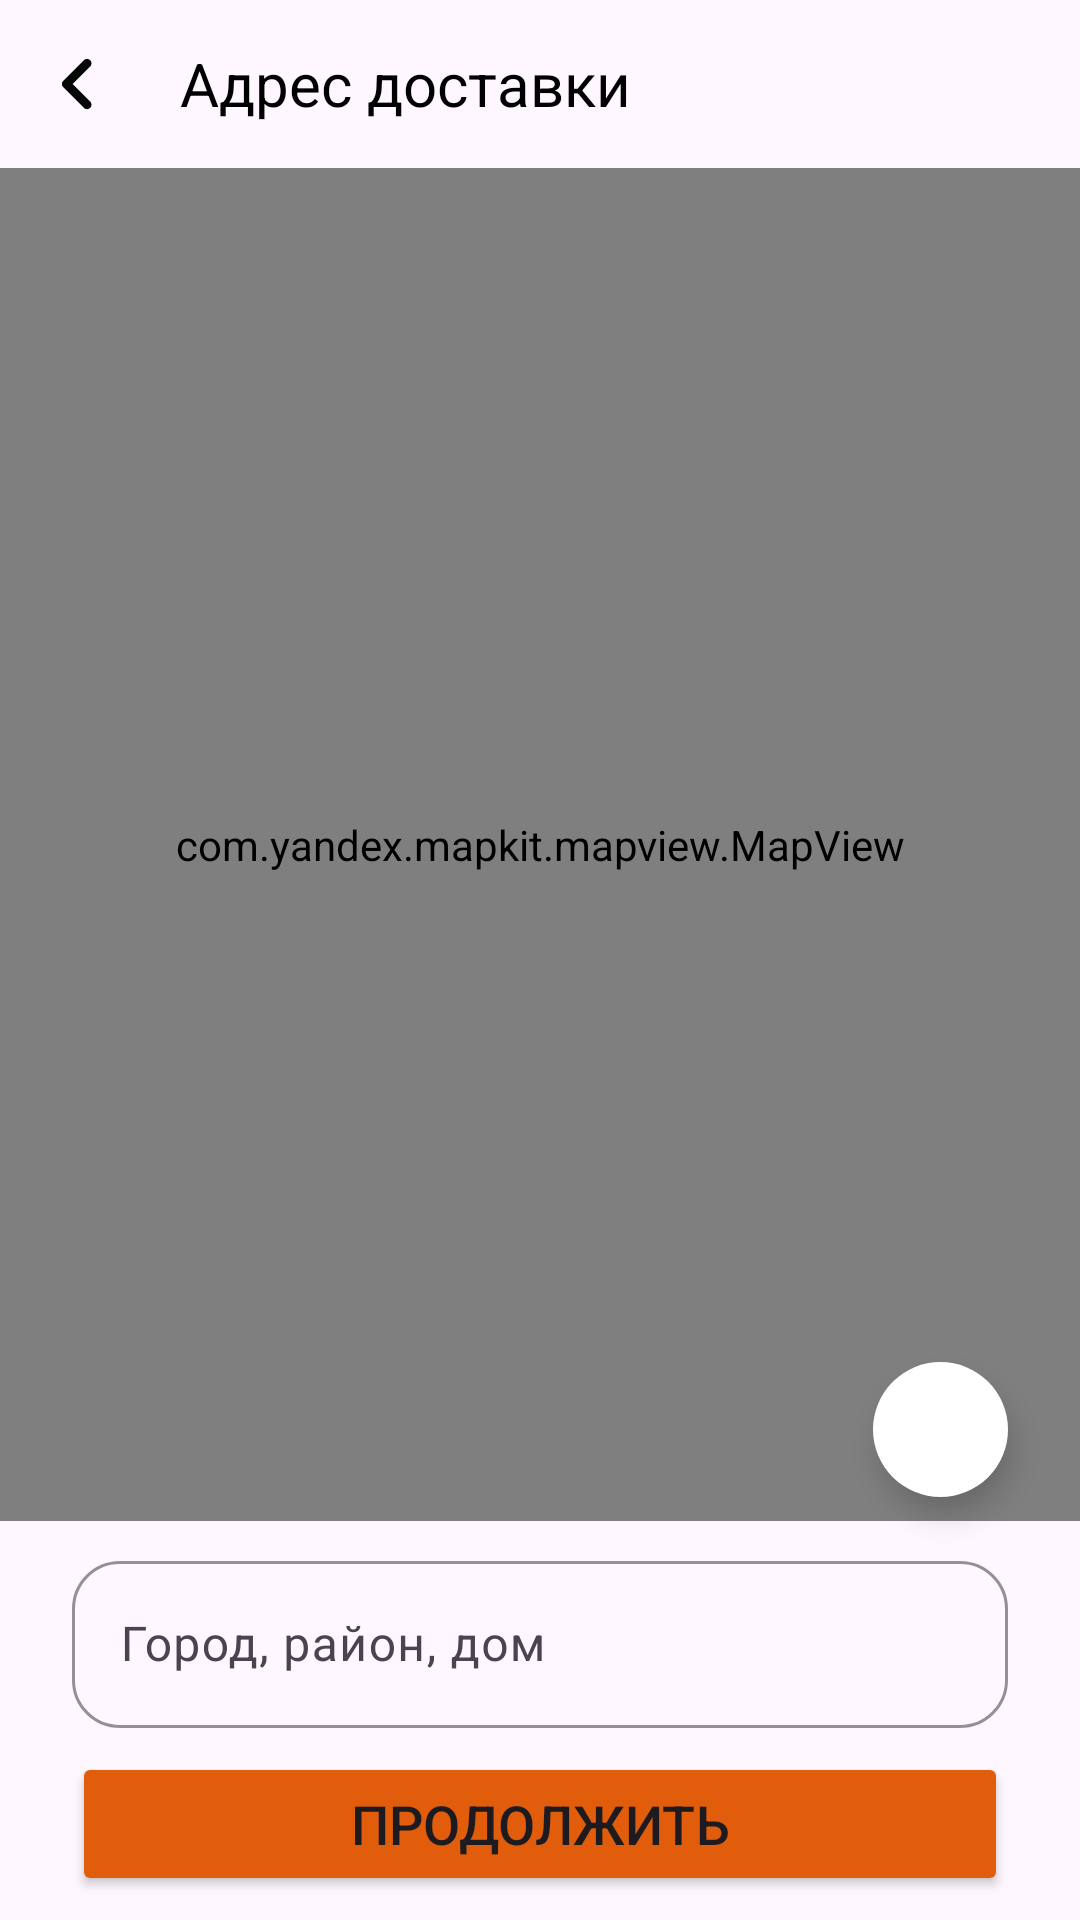

Icon bounding boxes for this 1080*1920 phone screenshot, format BBox(x1, y1, x2, y2):
arrow back: BBox(62, 59, 92, 110)
